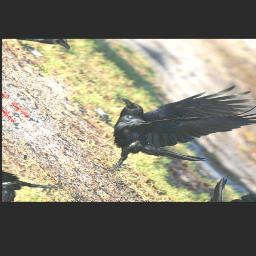Crow: (49, 64, 256, 187)
